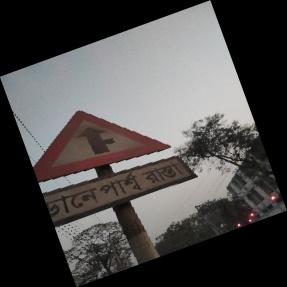Side-road-right: (32, 110, 199, 236)
